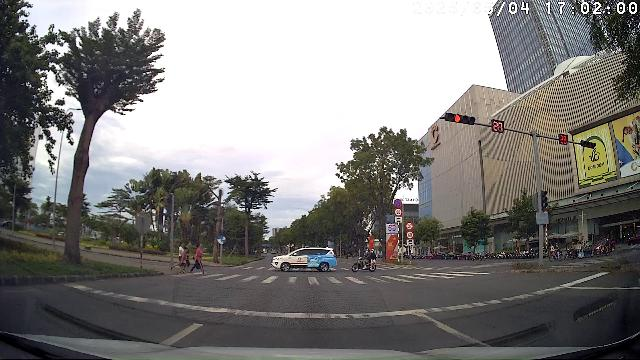127-toc-do-toi-da-60: (406, 231, 414, 239)
127-toc-do-toi-da-80: (394, 208, 402, 216)
130-cam-dung-va-do-xe: (394, 199, 402, 207)
